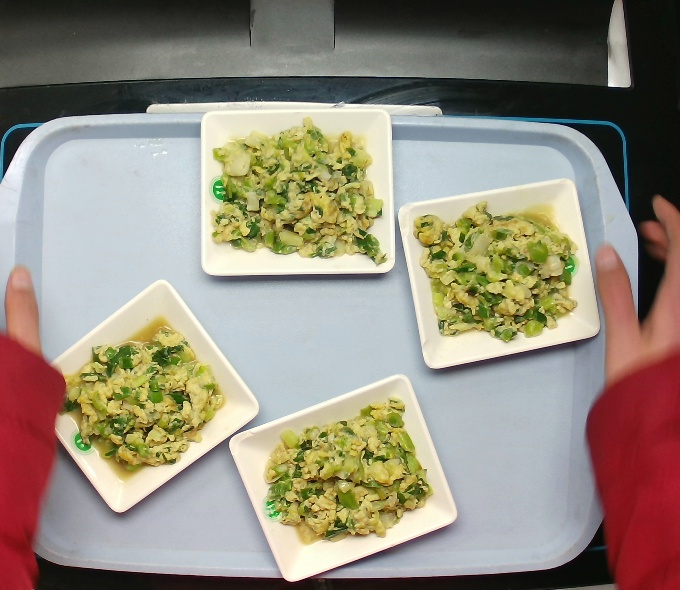wcq-SuanMiaoChaoDan: (50, 307, 227, 484), (211, 118, 391, 273), (257, 393, 430, 552), (410, 194, 584, 351)
